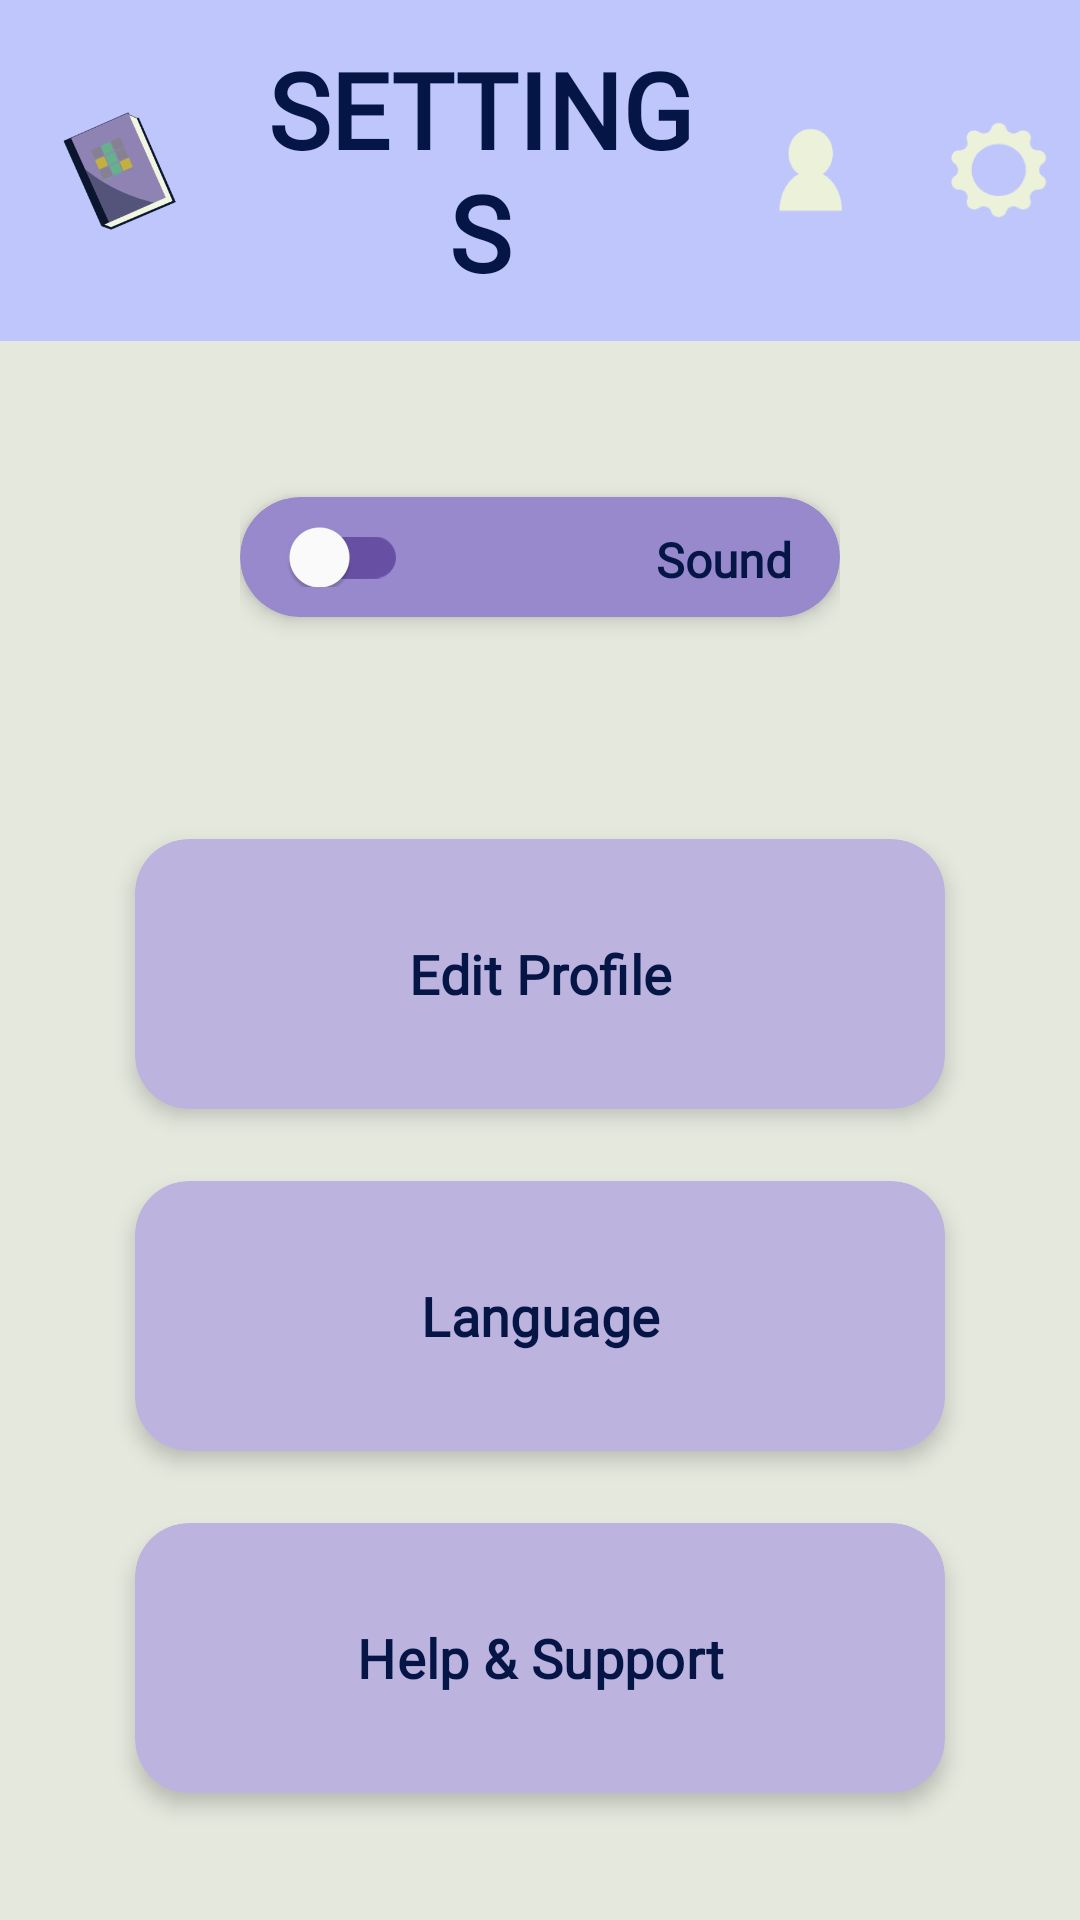

Point at icon controls on the screen. Image size 1080 x 1920, points as (x,y).
profile: (811,170)
settings: (998,170)
